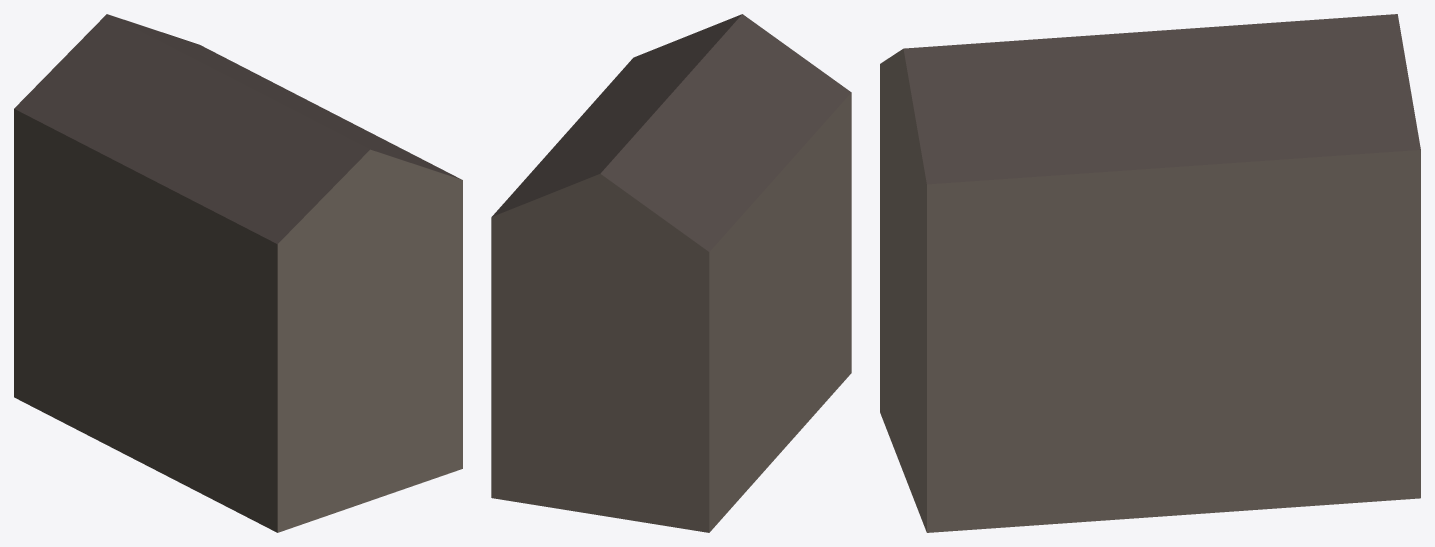
3 views of the same model, side by side, from view 1: azimuth 30°, elevation 25°; view 2: azimuth 150°, elevation 25°; view 3: azimuth 270°, elevation 25° (orthographic). The views are drawn at different scales.
Visible parts, largest first — view 1: HP-w1424106436; view 2: HP-w1424106436; view 3: HP-w1424106436.
Boxes of the visible parts, <box> form: HP-w1424106436: <box>14,14,462,532</box>; HP-w1424106436: <box>491,14,851,532</box>; HP-w1424106436: <box>880,14,1420,532</box>.
Bounding box in the file's own units: 8.59 × 10.95 × 12.66.
